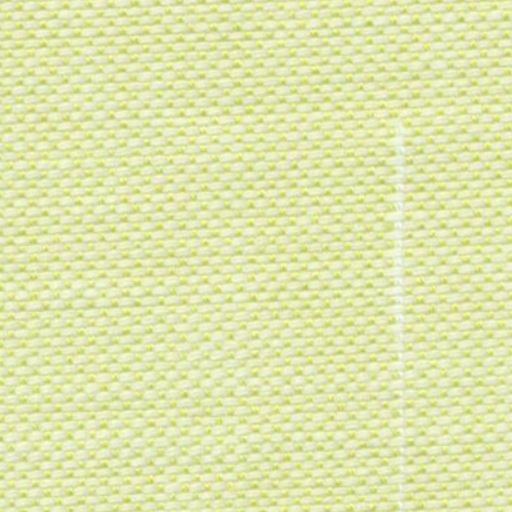DaiSha: (374, 108, 429, 468)
